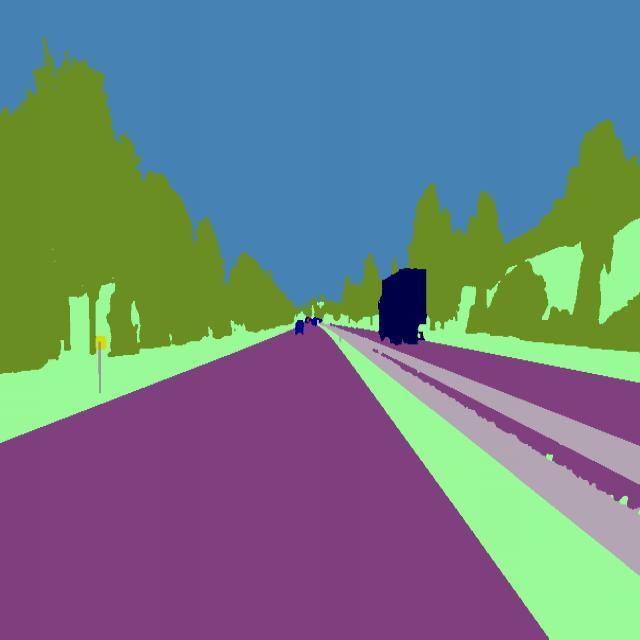safe: (376, 263, 430, 349), (292, 315, 306, 340)
